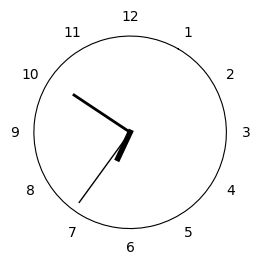12: (122, 10, 138, 22)
circle: (33, 35, 227, 229)
hours: (115, 129, 134, 162)
minutes: (72, 93, 128, 130)
seconds: (78, 136, 126, 203)
